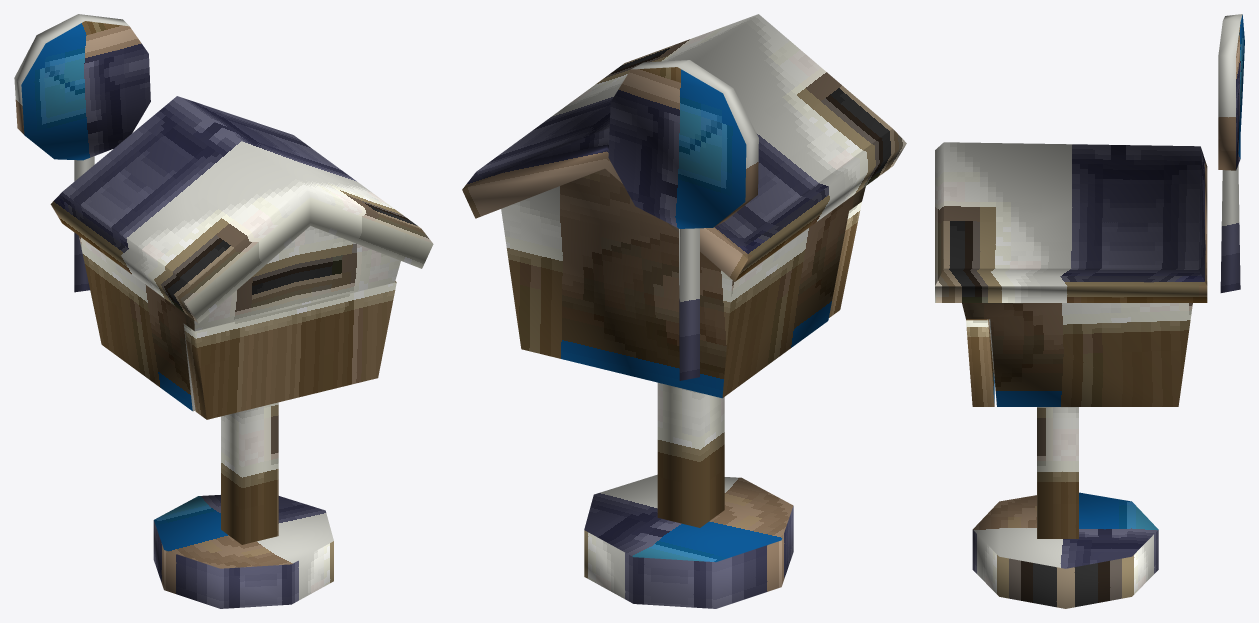
File: int_post_B03.dae
3 views of the same model, side by side, from view 1: azimuth 30°, elevation 25°; view 2: azimuth 150°, elevation 25°; view 3: azimuth 270°, elevation 25° (orthographic). The views are drawn at different scales.
Parts seen in each view (by area): view 1: int_post_B03; view 2: int_post_B03; view 3: int_post_B03.
Boxes of the visible parts, bbox=[...] form: int_post_B03: bbox=[14, 14, 433, 608]; int_post_B03: bbox=[462, 14, 906, 608]; int_post_B03: bbox=[935, 14, 1244, 608].
Bounding box in the file's own units: 21.63 × 39.81 × 21.94.
1 material, 1 textured.
